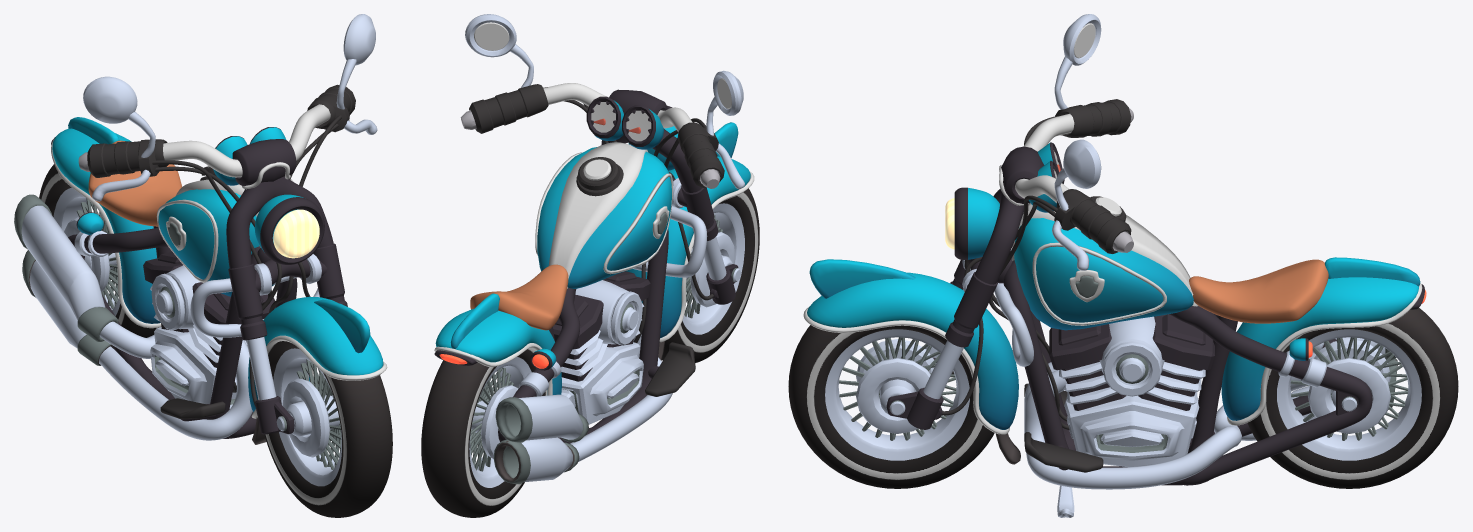
File: car-otWPH.glb
The picture shows the model from 3 angles, left to right: view 1: azimuth 30°, elevation 25°; view 2: azimuth 150°, elevation 25°; view 3: azimuth 270°, elevation 25°; orthographic projection. The views are drawn at different scales.
Visible parts, largest first — view 1: Circle.012, Cube.011, Cylinder.001, Circle.014, NurbsPath.013, Plane.010, Circle.011, Cube.013, Circle.015, Cylinder.016, Plane.007, Cylinder.018 (+26 smaller); view 2: Cube.011, Circle.003, Cube.013, Cube.009, Cylinder.018, Plane.010, Circle.012, Cylinder.001, Circle.015, Circle.002, Circle.014, Cylinder.014 (+27 smaller); view 3: Cube.011, Plane.010, Circle.003, Circle.014, Circle.012, Cube.013, Circle.002, Circle.011, Circle.015, NurbsPath.013, Cube.012, Cylinder.018 (+20 smaller).
Boxes of the visible parts, left/top/right/bottom form: Circle.012: left=264, top=341, right=392, bottom=517; Cube.011: left=143, top=251, right=275, bottom=408; Cylinder.001: left=14, top=194, right=118, bottom=341; Circle.014: left=273, top=348, right=341, bottom=486; NurbsPath.013: left=99, top=321, right=252, bottom=440; Plane.010: left=68, top=226, right=297, bottom=438; Circle.011: left=248, top=296, right=383, bottom=411; Cube.013: left=158, top=189, right=274, bottom=296; Circle.015: left=52, top=128, right=160, bottom=323; Cylinder.016: left=254, top=194, right=324, bottom=264; Plane.007: left=226, top=176, right=333, bottom=291; Cylinder.018: left=78, top=84, right=355, bottom=177; Cube.011: left=553, top=271, right=650, bottom=424; Circle.003: left=421, top=348, right=547, bottom=517; Cube.013: left=537, top=147, right=671, bottom=288; Cube.009: left=548, top=142, right=648, bottom=288; Cylinder.018: left=460, top=84, right=724, bottom=188; Plane.010: left=498, top=229, right=668, bottom=443; Circle.012: left=662, top=188, right=759, bottom=362; Cylinder.001: left=495, top=394, right=588, bottom=442; Circle.015: left=435, top=309, right=561, bottom=395; Circle.002: left=469, top=357, right=531, bottom=487; Circle.014: left=682, top=203, right=744, bottom=334; Cylinder.014: left=493, top=437, right=579, bottom=484; Cube.011: left=1049, top=314, right=1214, bottom=467; Plane.010: left=1003, top=260, right=1372, bottom=485; Circle.003: left=1247, top=308, right=1458, bottom=488; Circle.014: left=825, top=329, right=969, bottom=460; Circle.012: left=788, top=325, right=994, bottom=488; Cube.013: left=1014, top=218, right=1193, bottom=330; Circle.002: left=1277, top=329, right=1421, bottom=460; Circle.011: left=807, top=272, right=1018, bottom=429; Circle.015: left=1221, top=277, right=1418, bottom=420; NurbsPath.013: left=1024, top=362, right=1256, bottom=489; Cube.012: left=1189, top=259, right=1328, bottom=323; Cylinder.018: left=1054, top=99, right=1133, bottom=253.
Size of the model in its own units: 1.06 by 1.38 by 2.06.
17 materials, 5 textured.
